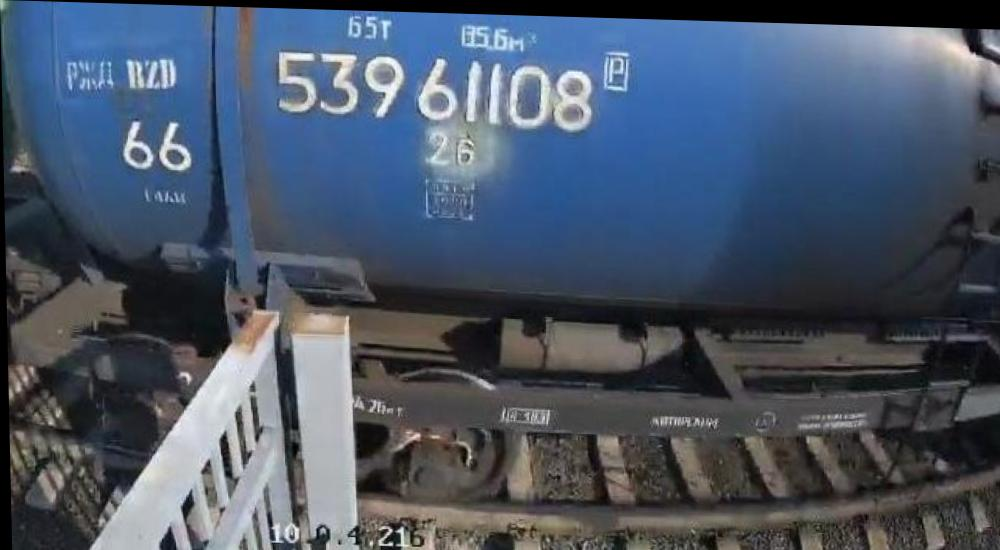Wagon-number: (270, 45, 599, 133)
